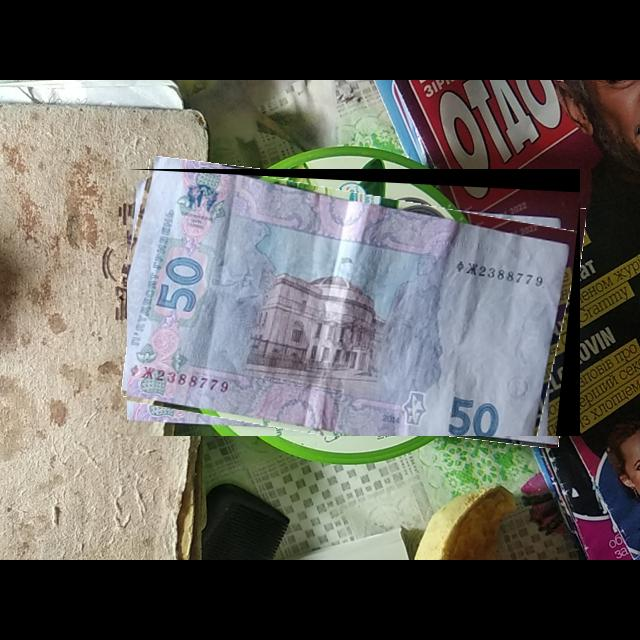50uah: (127, 169, 581, 437)
